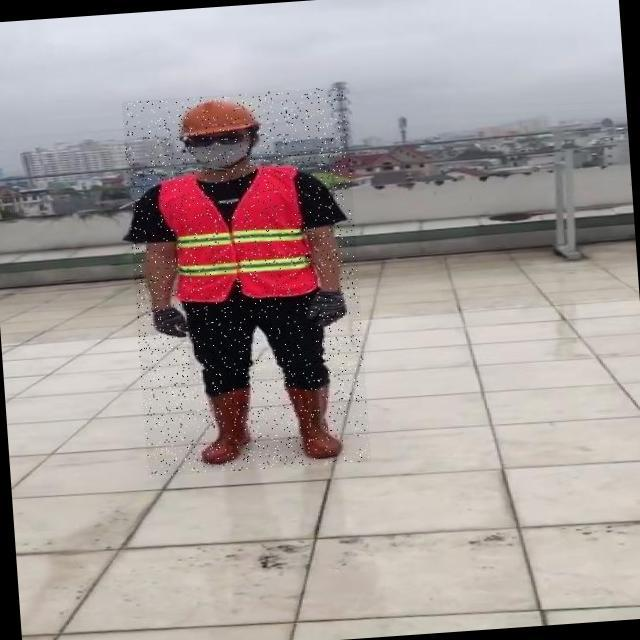Gloves: (304, 292, 351, 329), (151, 302, 191, 337)
Helmet: (173, 95, 261, 139)
Human: (121, 86, 371, 477)
Safety Boot: (280, 383, 349, 461), (195, 387, 259, 465)
Safety Vest: (157, 166, 316, 305)
